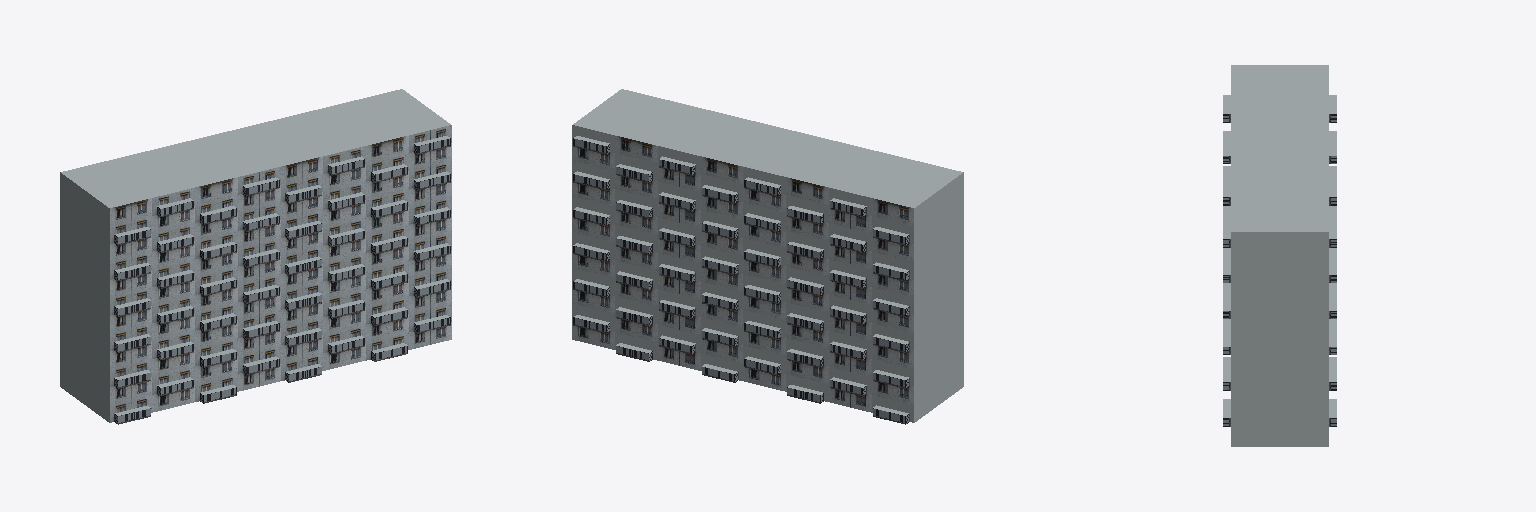
The picture shows the model from 3 angles: view 1: azimuth 30°, elevation 25°; view 2: azimuth 150°, elevation 25°; view 3: azimuth 270°, elevation 25°; orthographic projection.
Parts seen in each view (by area): view 1: Building; view 2: Building; view 3: Building.
Part boxes in pixels (x1,y1,x2,y2): Building: (60,89,451,424); Building: (572,89,963,424); Building: (1223,65,1336,446).
Bounding box in the file's own units: 8 × 4.8 × 2.3.
Materials: 1 (1 with a texture image).